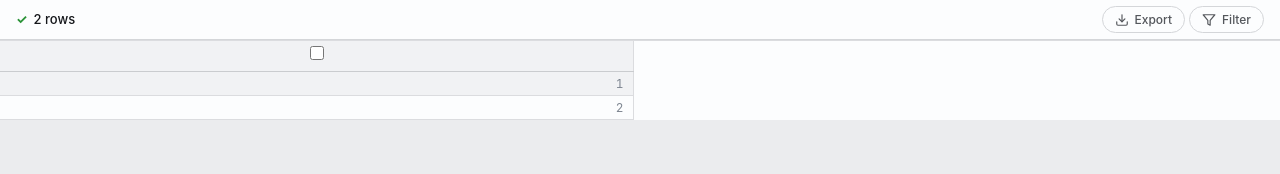
Test: filter bar visibility › opens the bar from the Filter button
Click the button titled "Filter" at (1226, 20), box [1189, 6, 1264, 33]
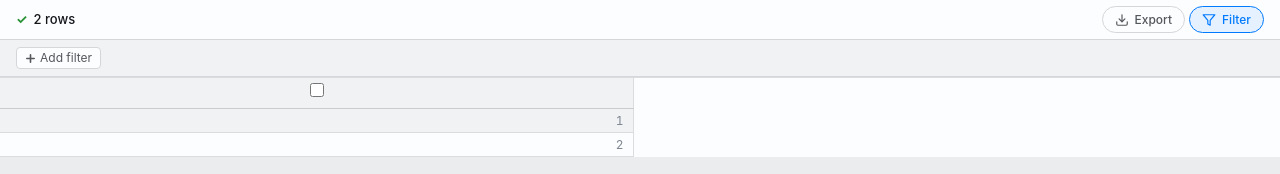
Result: the button "Add filter" is shown at [16, 47, 101, 69]
